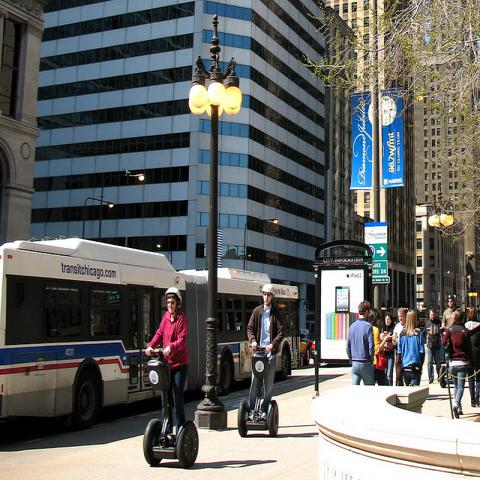bus: (0, 237, 302, 428)
